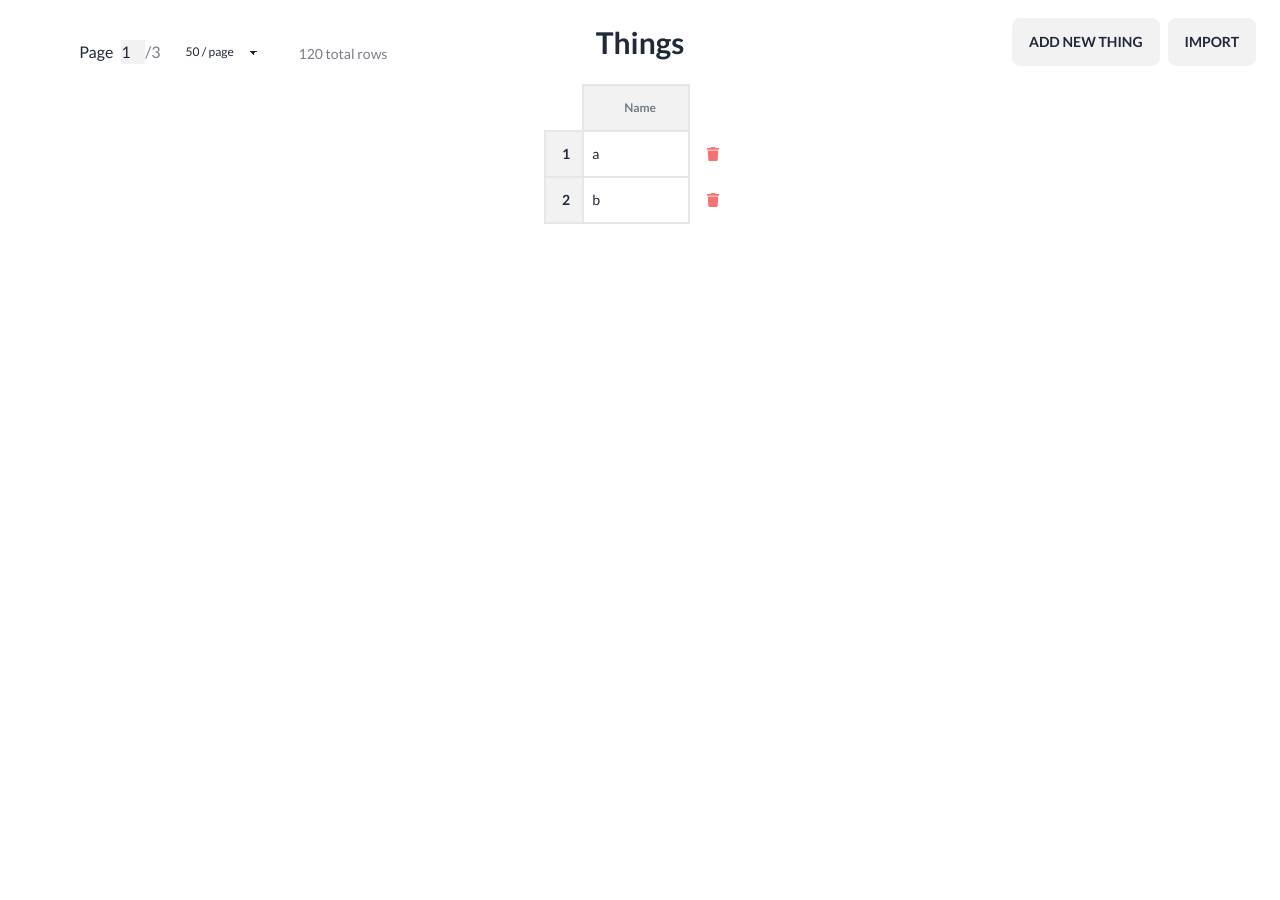
cascading delete › lists what else would be deleted, and deletes nothing on Cancel
The width and height of the screenshot is (1280, 900).
Click the 3rd cell. click: point(712, 154)
box: [689,131,736,177]
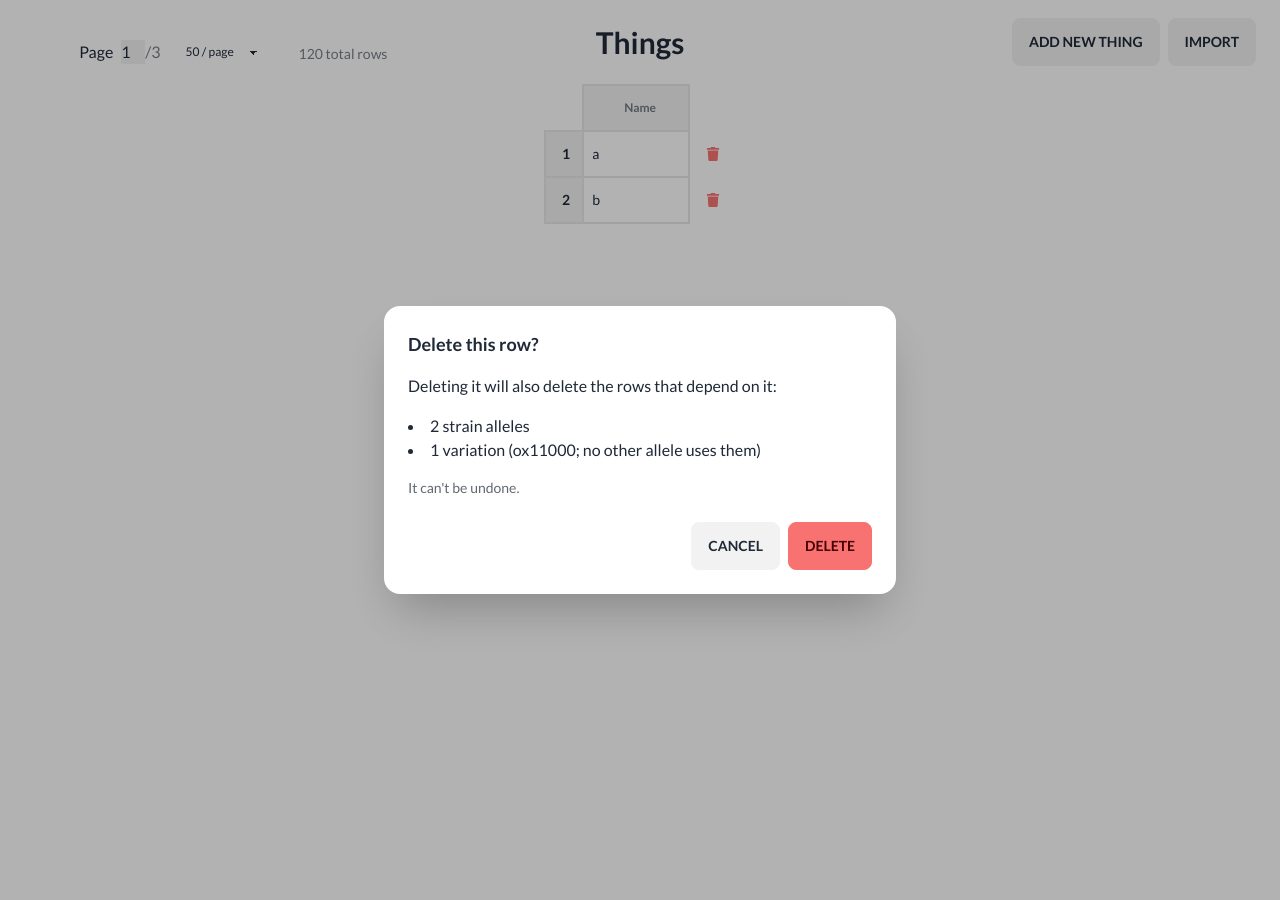
Expected: the heading "Delete this row?" is shown, [408,333,538,355]
Expected: the list item "2 strain alleles" is shown, [430,416,530,435]
Expected: the list item "1 variation (ox11000; no other allele uses them)" is shown, [430,440,761,459]
Click the button "Cancel". click: point(736, 546)
box: [691,522,780,570]
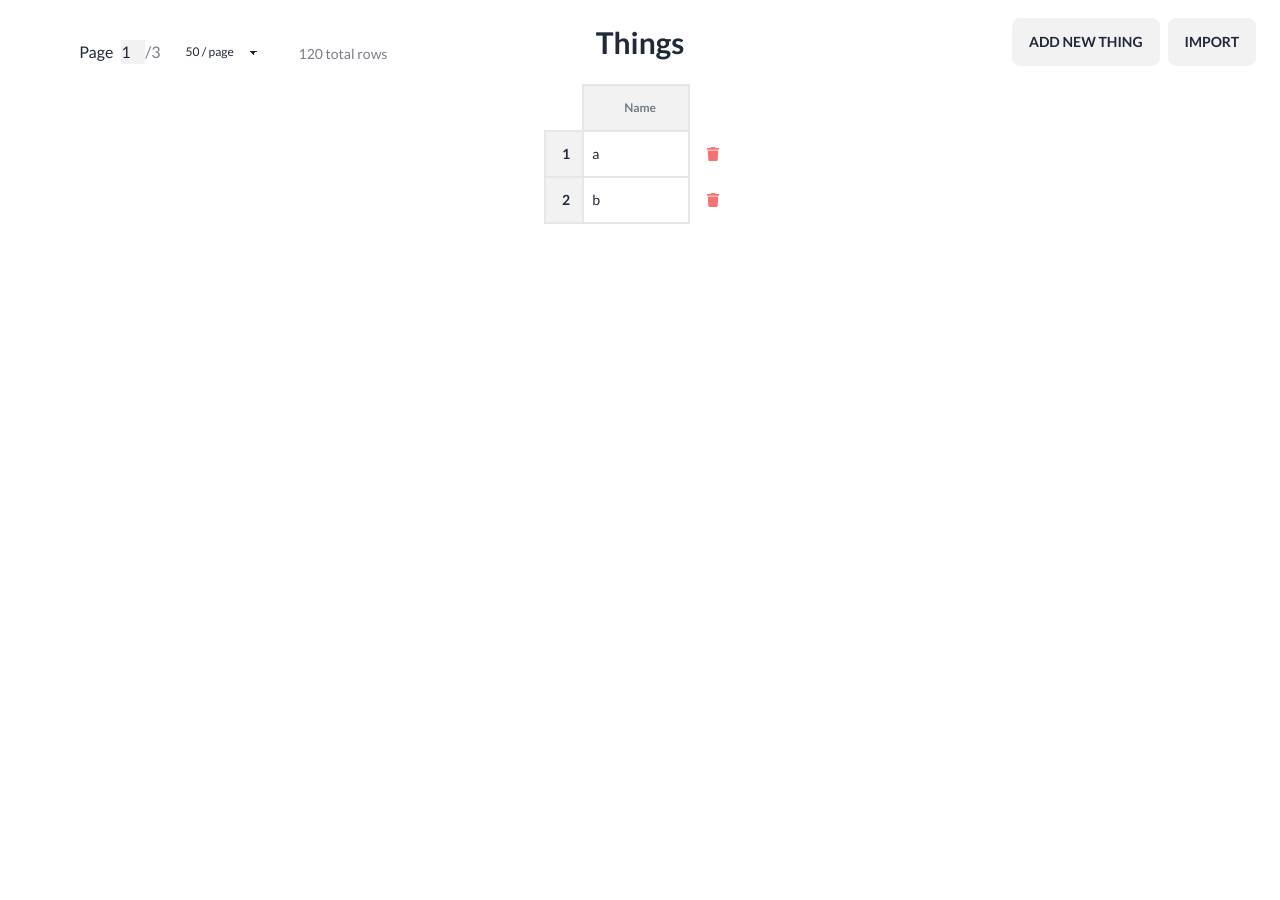
Expected: the heading "Delete this row?" is gone
